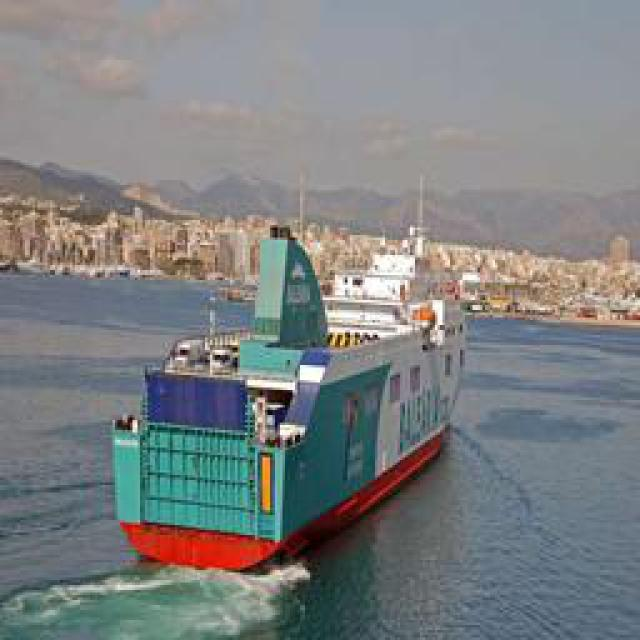Ship: (114, 210, 467, 585)
